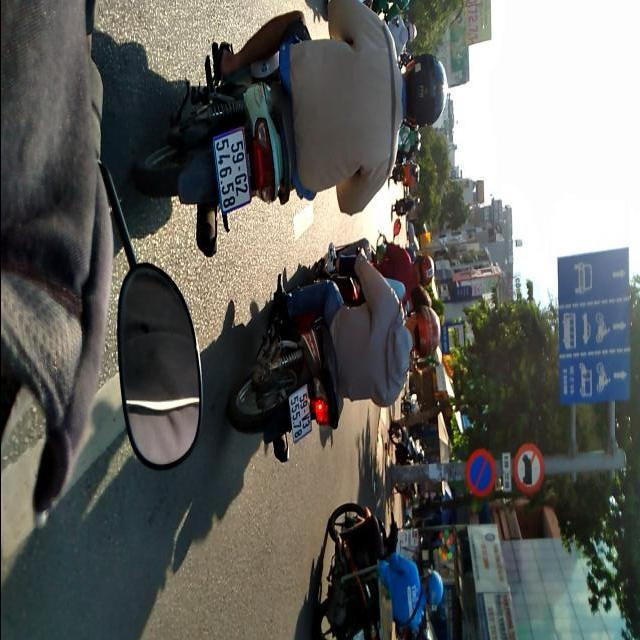P-131a: (464, 450, 498, 497)
R-403: (554, 249, 630, 405)
